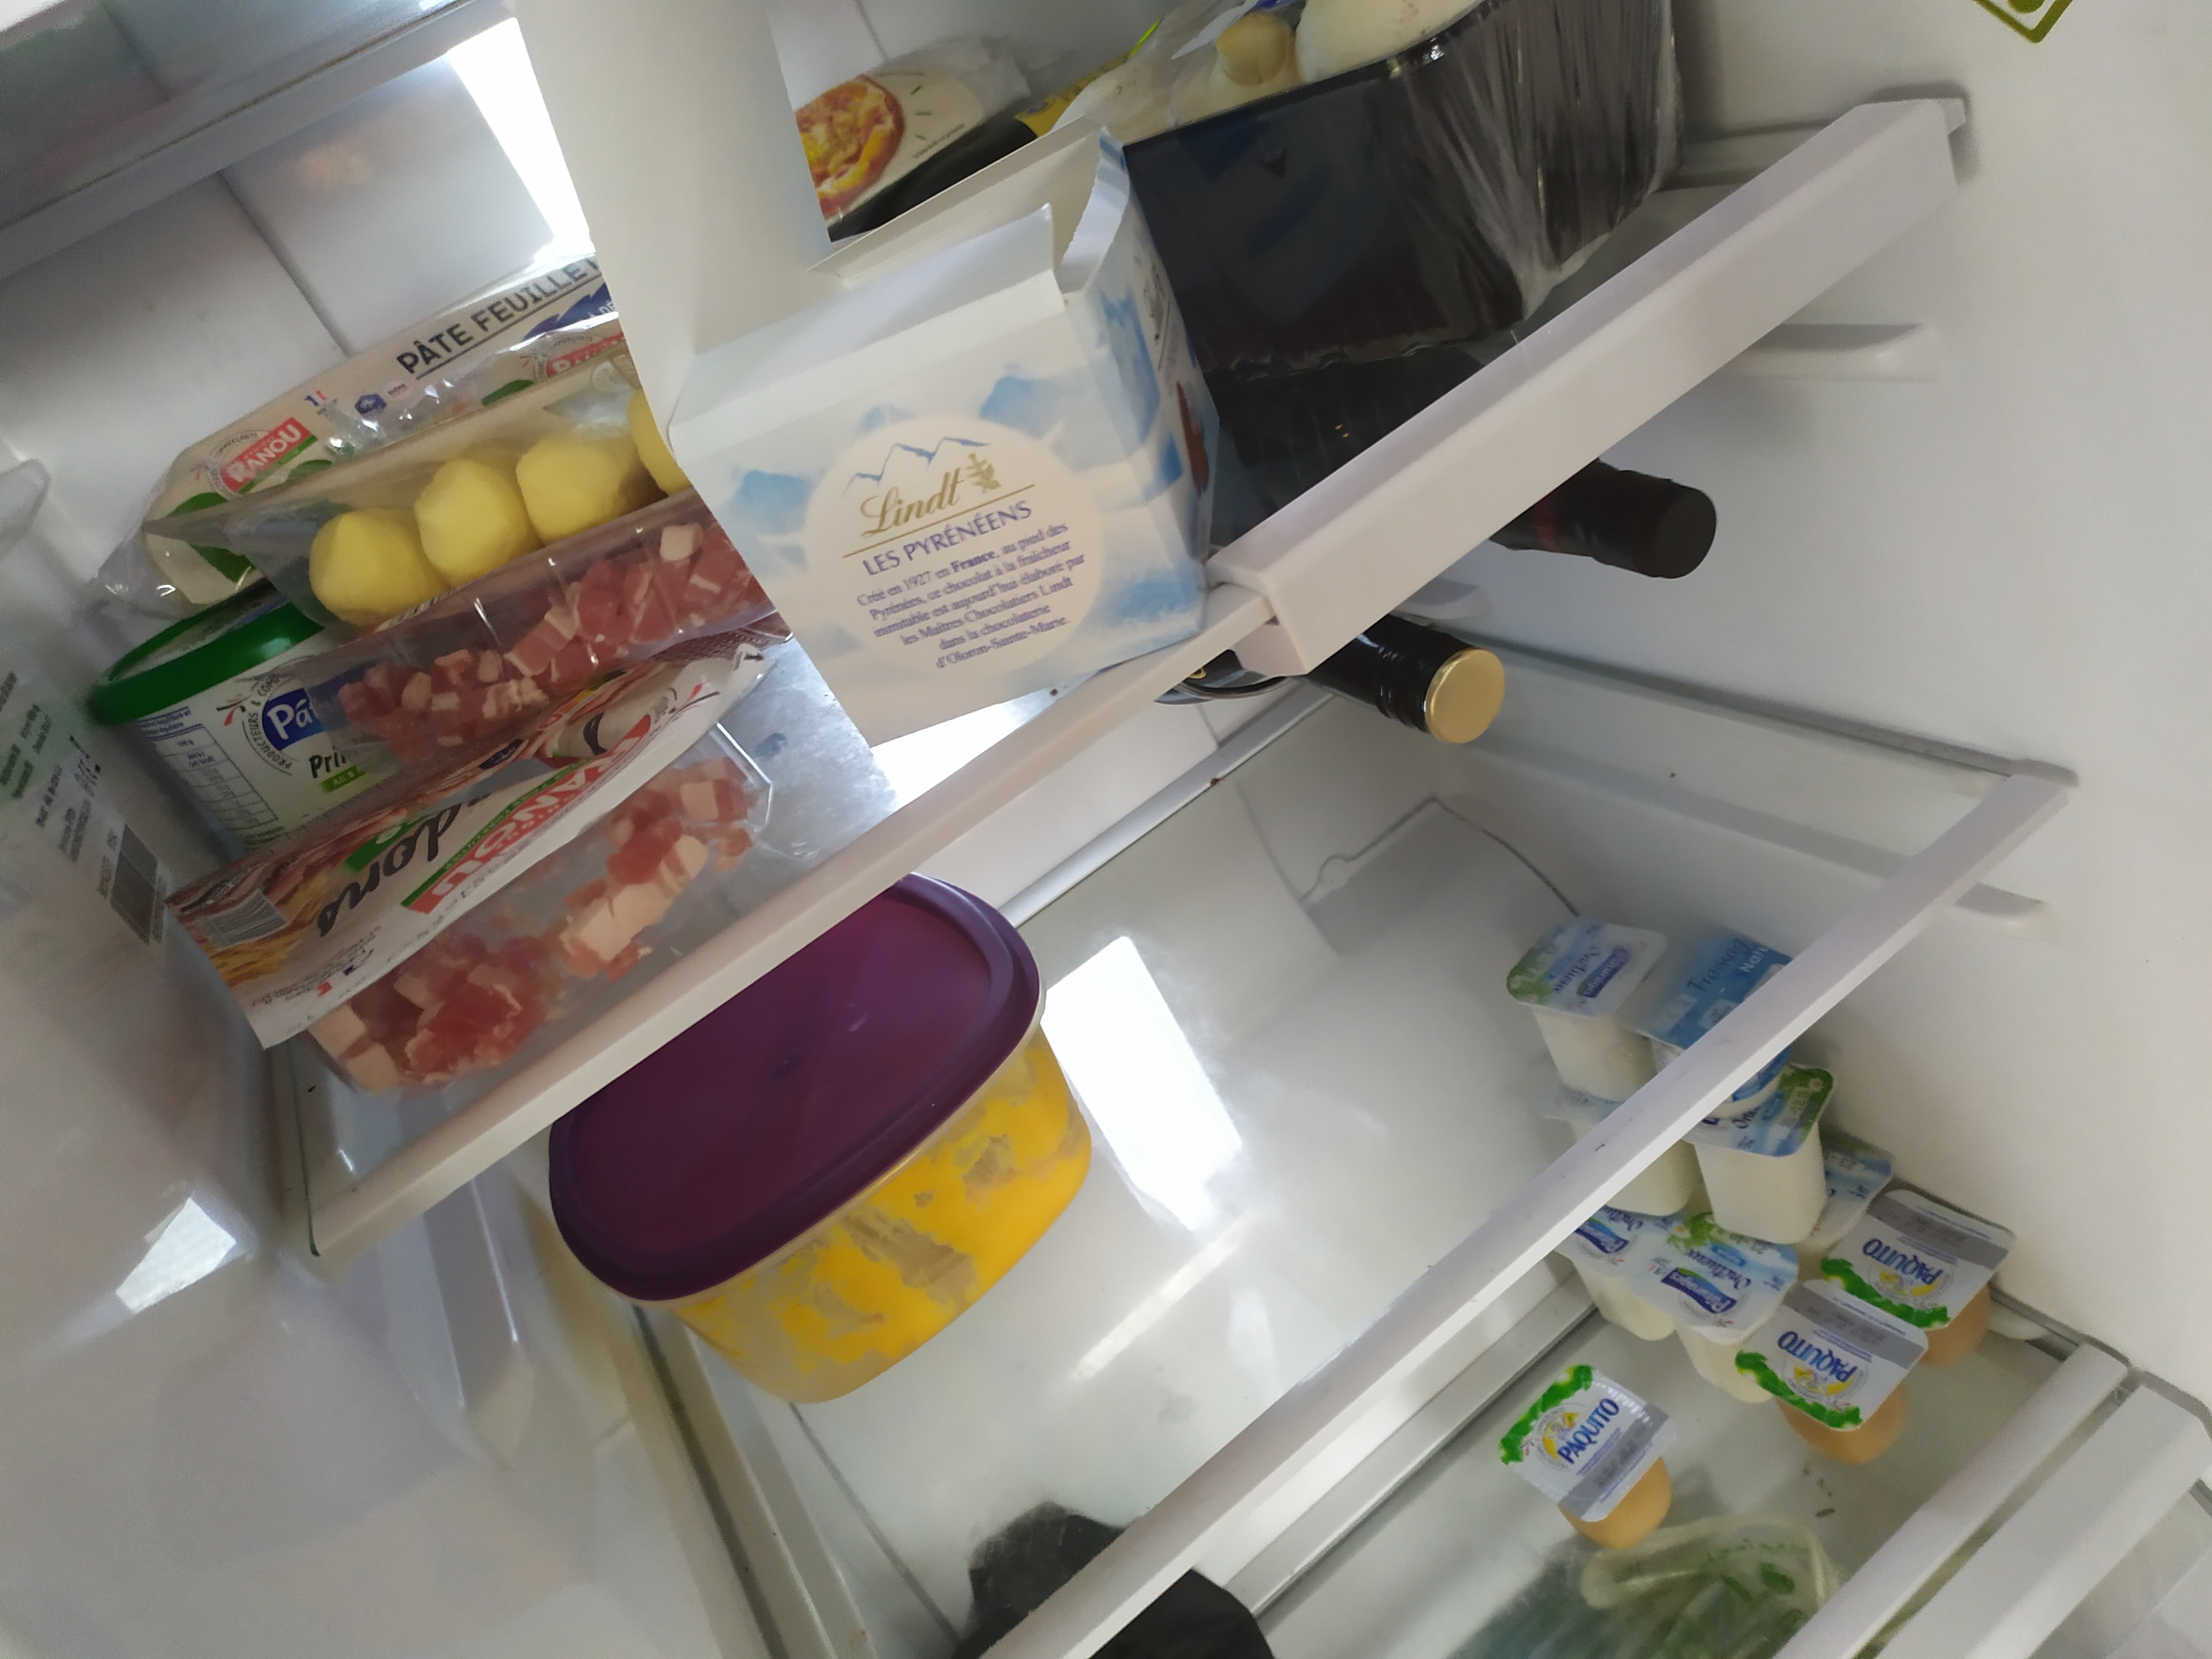bottle: (1139, 610, 1508, 737), (1484, 451, 1721, 580)
compote: (1745, 1281, 1919, 1471), (1829, 1176, 2001, 1368), (1505, 1366, 1689, 1544)
mushroom: (1045, 0, 1698, 343)
yoghurt: (1517, 1061, 1705, 1213), (1696, 1060, 1844, 1243), (1649, 1220, 1789, 1410), (1651, 929, 1791, 1110), (1510, 922, 1651, 1091), (1554, 1188, 1686, 1351), (1801, 1133, 1902, 1256)
